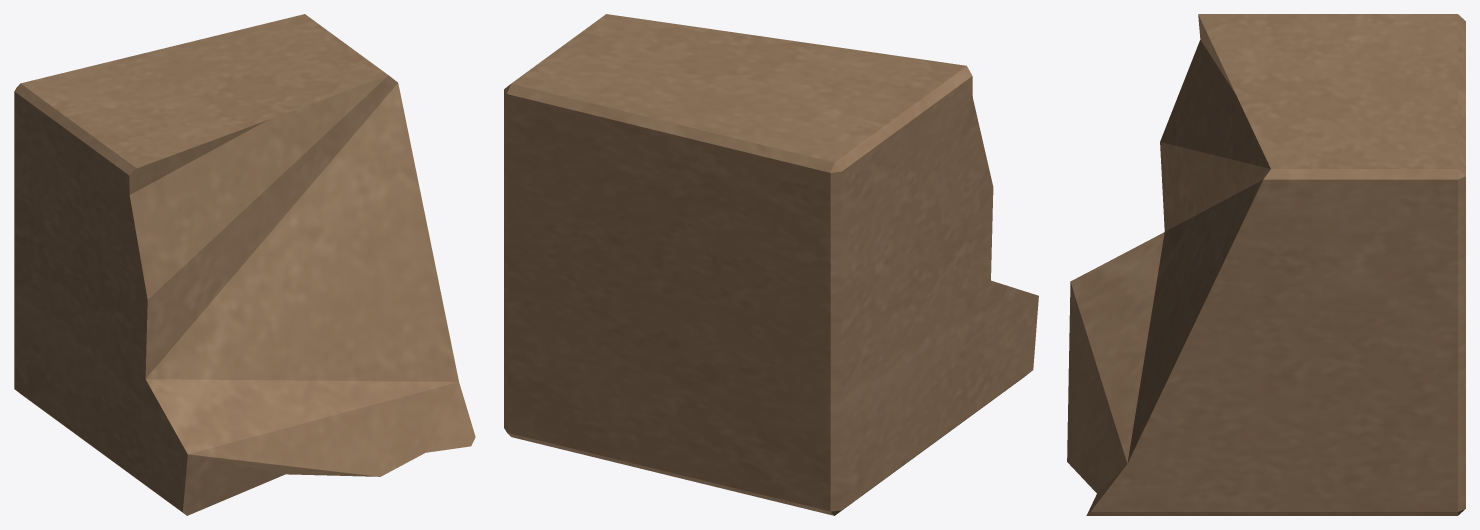
The model's file is Brick_Broken_Back.FBX.
3 views of the same model, side by side, from view 1: azimuth 30°, elevation 25°; view 2: azimuth 150°, elevation 25°; view 3: azimuth 270°, elevation 25° (orthographic). The views are drawn at different scales.
Parts seen in each view (by area): view 1: Brick_01; view 2: Brick_01; view 3: Brick_01.
Boxes of the visible parts, x1,y1,x2,y2 form: Brick_01: [14, 14, 475, 515]; Brick_01: [504, 14, 1038, 515]; Brick_01: [1067, 14, 1465, 515].
Size of the model in its own units: 24 by 24 by 25.
